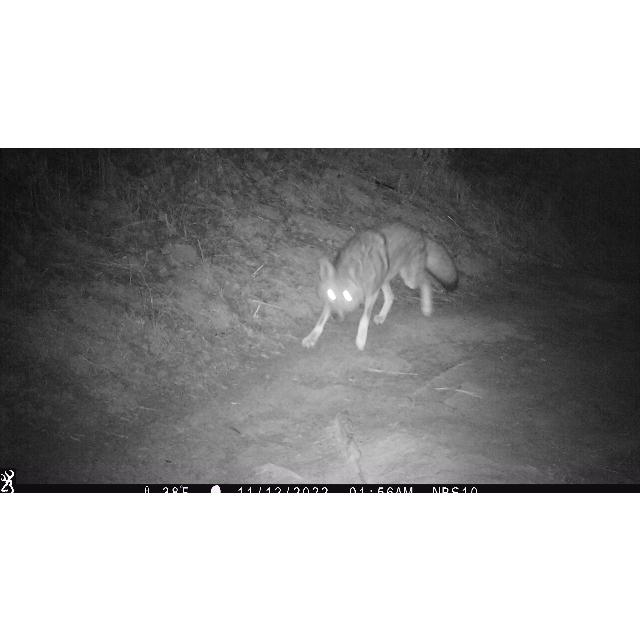animals: (301, 216, 461, 352)
